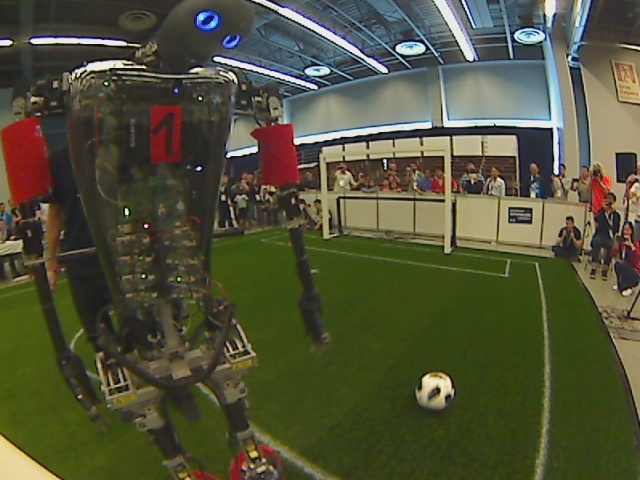ball: (413, 370, 457, 414)
goalpost: (311, 221, 340, 251), (437, 235, 458, 260)
robot: (145, 416, 289, 476)
